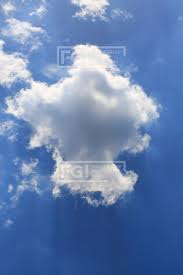sky: (1, 1, 180, 272)
